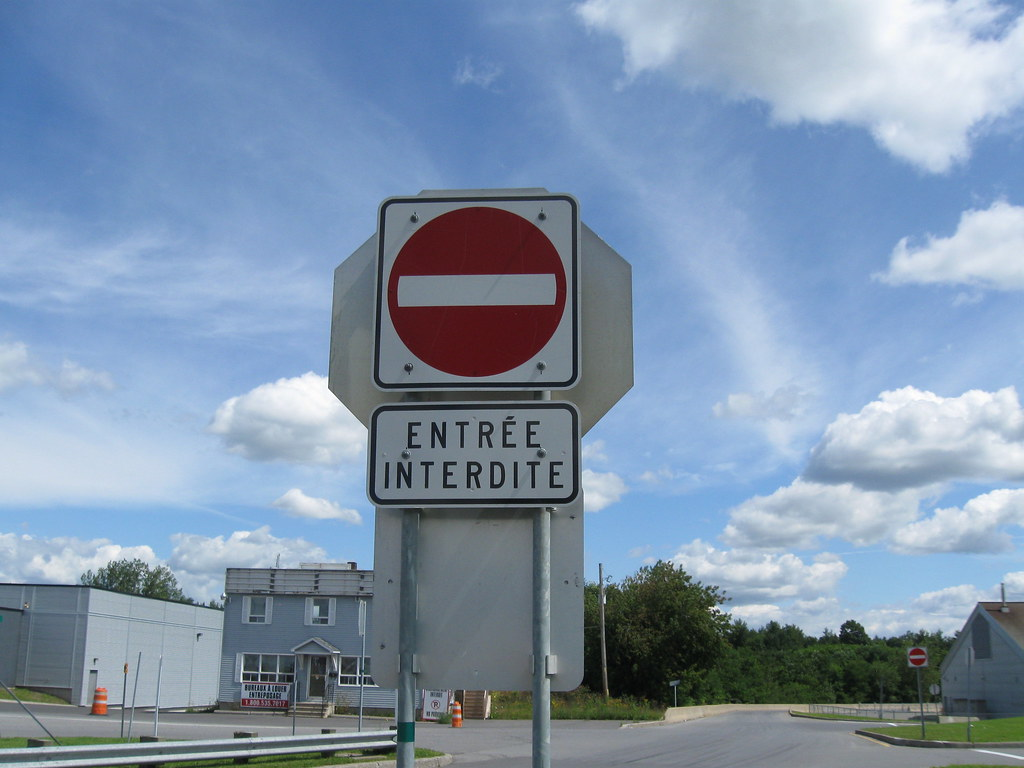sign_noentry: (370, 193, 583, 392)
